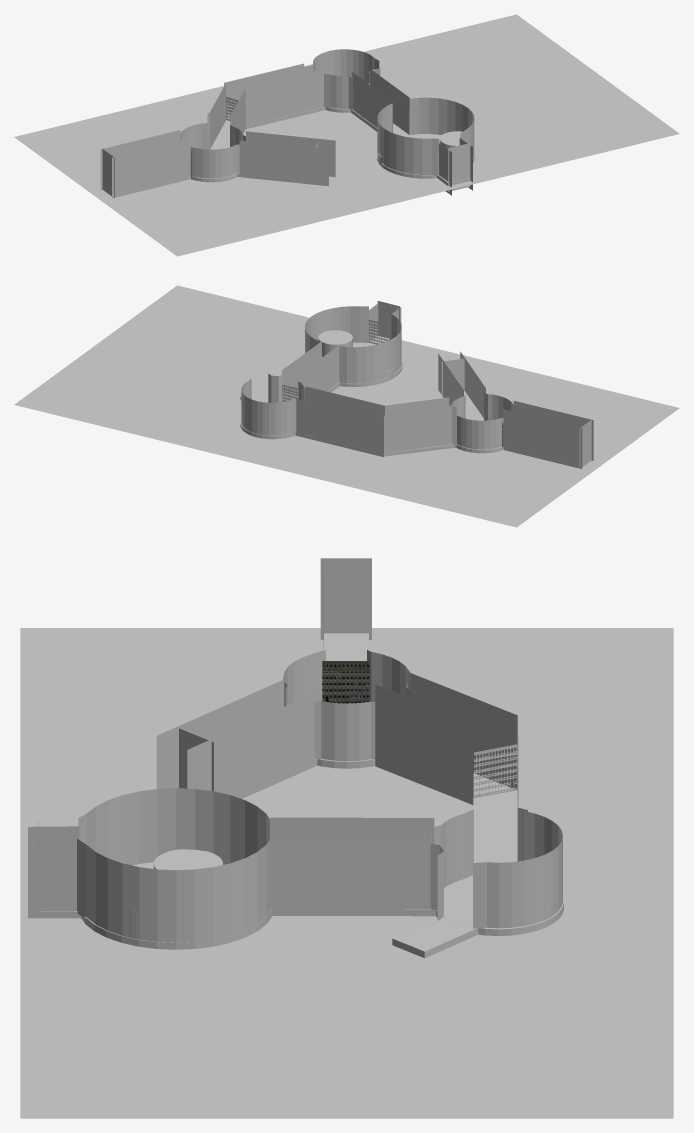
File: level_one.obj
3 views of the same model, one above another, from view 1: azimuth 30°, elevation 25°; view 2: azimuth 150°, elevation 25°; view 3: azimuth 270°, elevation 25° (orthographic). The views are drawn at different scales.
Parts seen in each view (by area): view 1: astwilTT-GlxYH5bEN3DOJR-S0OlpbG7Z2-hksUAAVPnFL3Ek2u2C8QOC28igKA, Circle.008_Circle.009, Plane.006, Plane, Plane.011, Circle.004_Circle.005, Circle.003, Plane.012, Plane.016, Plane.005_Plane.004, Plane.015, Plane.001 (+6 smaller); view 2: astwilTT-GlxYH5bEN3DOJR-S0OlpbG7Z2-hksUAAVPnFL3Ek2u2C8QOC28igKA, Circle.008_Circle.009, Plane.001, Plane.012, Plane.010, Circle.004_Circle.005, Circle.003, Plane.016, Plane, Plane.011, Plane.015, Plane.006 (+7 smaller); view 3: astwilTT-GlxYH5bEN3DOJR-S0OlpbG7Z2-hksUAAVPnFL3Ek2u2C8QOC28igKA, Circle.008_Circle.009, Plane.015, Circle.004_Circle.005, Plane.005_Plane.004, Plane.009, Circle.003, Plane.010, Plane.002, Plane.006, Plane.019, Plane.016 (+10 smaller).
Boxes of the visible parts, bbox=[...] form: astwilTT-GlxYH5bEN3DOJR-S0OlpbG7Z2-hksUAAVPnFL3Ek2u2C8QOC28igKA: bbox=[14, 14, 679, 256]; Circle.008_Circle.009: bbox=[377, 97, 474, 176]; Plane.006: bbox=[239, 140, 328, 186]; Plane: bbox=[112, 138, 191, 198]; Plane.011: bbox=[245, 69, 325, 125]; Circle.004_Circle.005: bbox=[313, 49, 380, 109]; Circle.003: bbox=[179, 121, 245, 178]; Plane.012: bbox=[224, 63, 304, 119]; Plane.016: bbox=[352, 72, 392, 132]; Plane.005_Plane.004: bbox=[246, 131, 335, 177]; Plane.015: bbox=[370, 69, 409, 134]; Plane.001: bbox=[100, 130, 180, 189]; astwilTT-GlxYH5bEN3DOJR-S0OlpbG7Z2-hksUAAVPnFL3Ek2u2C8QOC28igKA: bbox=[14, 285, 679, 527]; Circle.008_Circle.009: bbox=[305, 306, 401, 383]; Plane.001: bbox=[502, 409, 582, 468]; Plane.012: bbox=[304, 397, 383, 457]; Plane.010: bbox=[382, 407, 456, 452]; Circle.004_Circle.005: bbox=[241, 373, 305, 435]; Circle.003: bbox=[449, 393, 513, 449]; Plane.016: bbox=[298, 345, 339, 398]; Plane: bbox=[513, 401, 593, 460]; Plane.011: bbox=[305, 386, 384, 415]; Plane.015: bbox=[282, 341, 321, 402]; Plane.006: bbox=[460, 351, 485, 417]; astwilTT-GlxYH5bEN3DOJR-S0OlpbG7Z2-hksUAAVPnFL3Ek2u2C8QOC28igKA: bbox=[20, 628, 673, 1118]; Circle.008_Circle.009: bbox=[77, 788, 271, 942]; Plane.015: bbox=[271, 834, 430, 915]; Circle.004_Circle.005: bbox=[430, 809, 562, 928]; Plane.005_Plane.004: bbox=[187, 693, 314, 798]; Plane.009: bbox=[375, 684, 473, 798]; Circle.003: bbox=[283, 650, 410, 761]; Plane.010: bbox=[407, 670, 517, 789]; Plane.002: bbox=[320, 558, 371, 639]; Plane.006: bbox=[156, 679, 283, 788]; Plane.019: bbox=[28, 847, 76, 918]; Plane.016: bbox=[270, 817, 434, 844].
Size of what is drawn, in the model's own units: 12.6 by 1.18 by 7.09.
